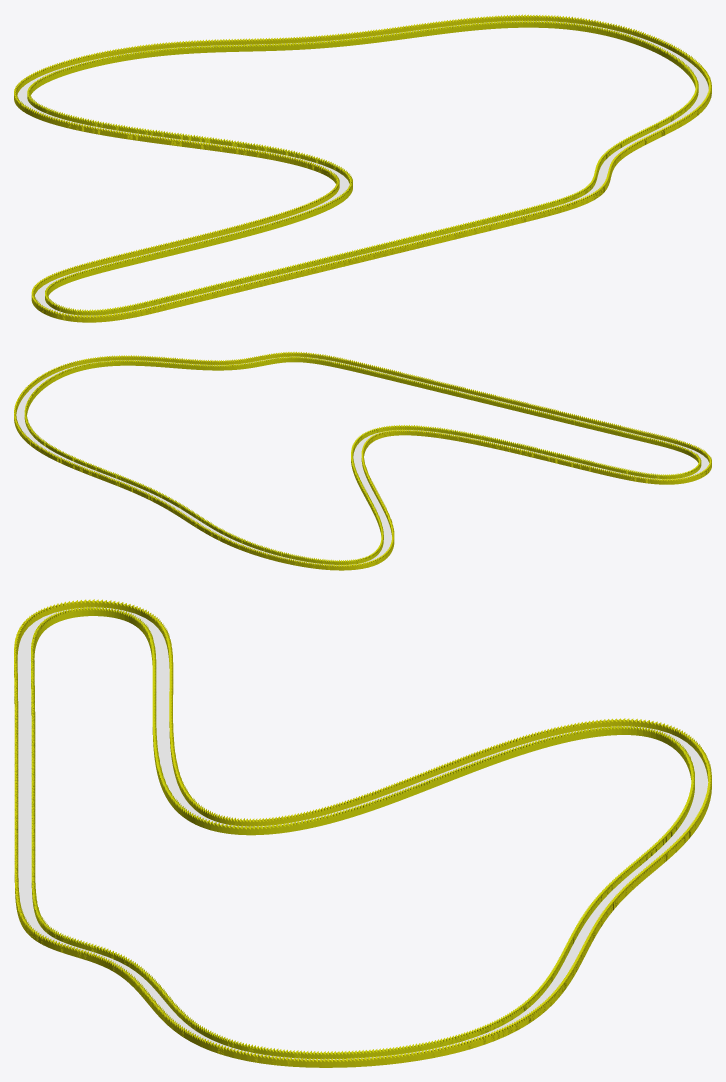
Rendered from asphaltroad.gltf.
3 renders of one model, top to bottom at view 1: azimuth 30°, elevation 25°; view 2: azimuth 150°, elevation 25°; view 3: azimuth 270°, elevation 25°, orthographic. The views are drawn at different scales.
Visible parts, largest first — view 1: Cube.003, Cube.001, Cube; view 2: Cube.003, Cube.001, Cube; view 3: Cube.003, Cube.001, Cube.
Boxes of the visible parts, <box> form: Cube.003: <box>14,14,711,322</box>; Cube.001: <box>27,20,698,315</box>; Cube: <box>17,21,708,316</box>; Cube.003: <box>14,351,711,570</box>; Cube.001: <box>24,356,701,564</box>; Cube: <box>16,356,709,565</box>; Cube.003: <box>14,599,711,1067</box>; Cube.001: <box>31,606,694,1059</box>; Cube: <box>17,607,707,1059</box>.
Size of the model in its own units: 0.742 by 0.00632 by 0.4754.
